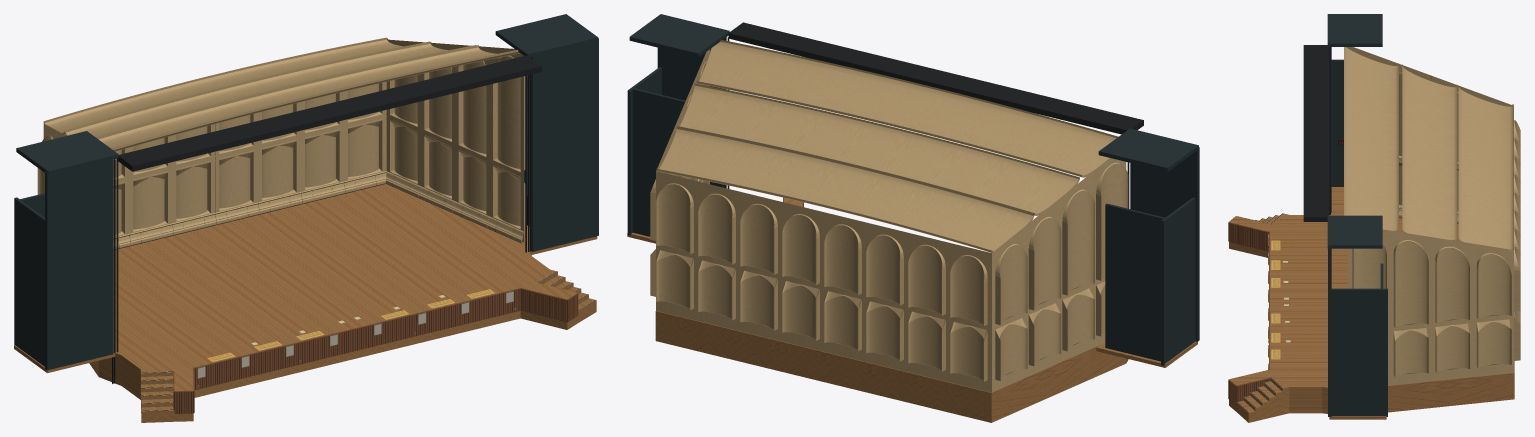
Rendered from stage.glb.
3 views of the same model, side by side, from view 1: azimuth 30°, elevation 25°; view 2: azimuth 150°, elevation 25°; view 3: azimuth 270°, elevation 25° (orthographic). The views are drawn at different scales.
Visible parts, largest first — view 1: stage; view 2: stage; view 3: stage.
Part boxes in pixels (bbox=[...]): stage: bbox=[14, 14, 598, 422]; stage: bbox=[627, 14, 1199, 422]; stage: bbox=[1228, 14, 1520, 422].
Size of the model in its own units: 23.48 by 9.43 by 12.51.
16 materials, 4 textured.
